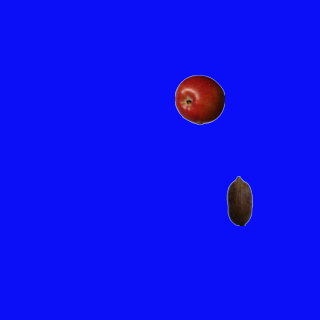Apple Braeburn: (174, 74, 224, 124)
Nut Pecan: (214, 175, 264, 225)
